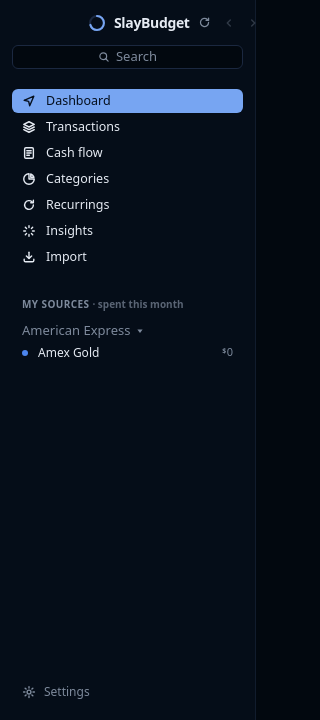
Scenario: Sidebar › collapses an institution group
Expected: the text "Amex Gold" is shown, 38,344 -> 99,360
Click the button "American Express" at (84, 331), box 12,320 -> 156,342
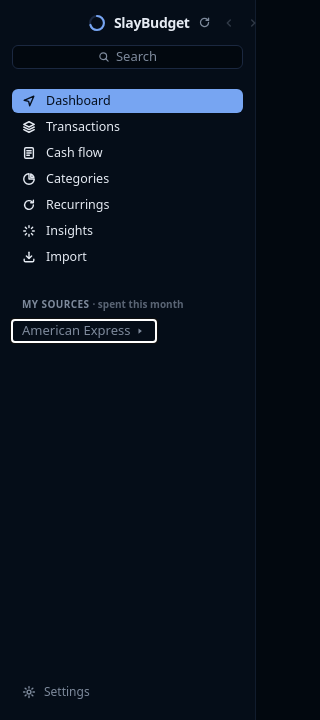
Result: the button "American Express" is collapsed at 12,320 -> 156,342
Result: the text "Amex Gold" is gone
